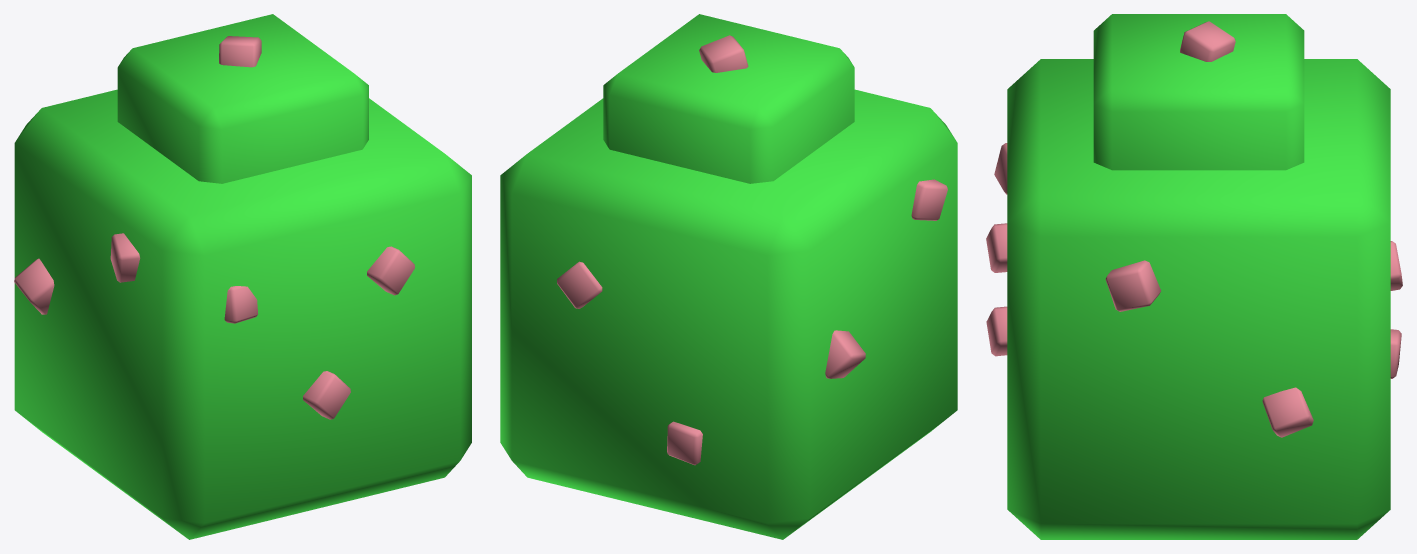
File: bush_2_roses.fbx
3 views of the same model, side by side, from view 1: azimuth 30°, elevation 25°; view 2: azimuth 150°, elevation 25°; view 3: azimuth 270°, elevation 25° (orthographic). The views are drawn at different scales.
Parts seen in each view (by area): view 1: bush with roses; view 2: bush with roses; view 3: bush with roses.
Part boxes in pixels (x1,y1,x2,y2): bush with roses: [14, 14, 471, 539]; bush with roses: [500, 14, 957, 539]; bush with roses: [986, 14, 1402, 539].
Bounding box in the file's own units: 266 × 295 × 251.
